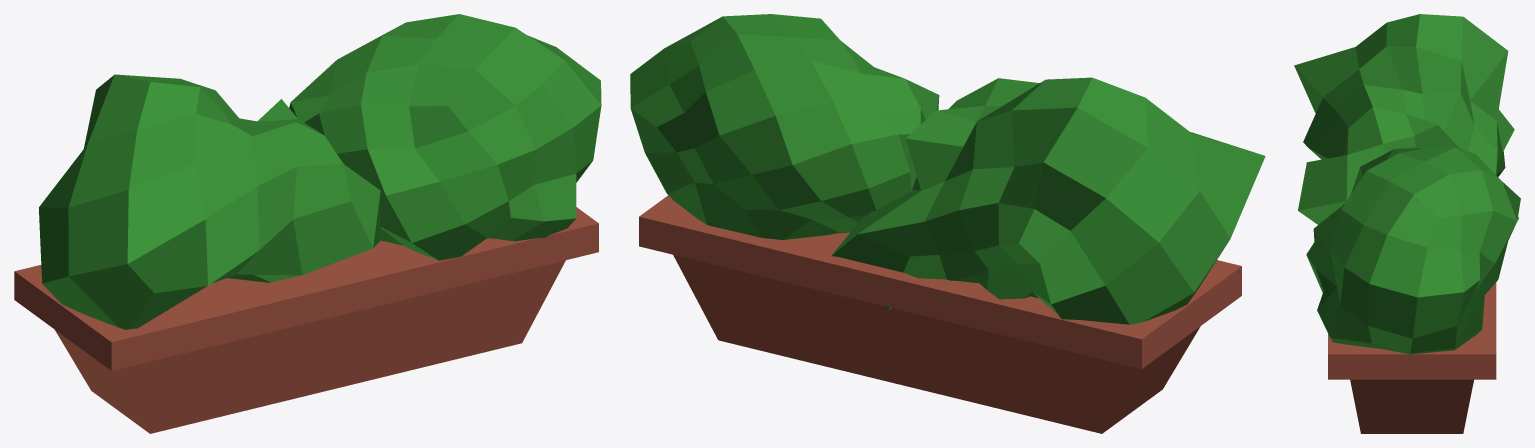
File: Planter.fbx
3 renders of one model, left to right at view 1: azimuth 30°, elevation 25°; view 2: azimuth 150°, elevation 25°; view 3: azimuth 270°, elevation 25°, orthographic. The views are drawn at different scales.
Visible parts, largest first — view 1: Planter; view 2: Planter; view 3: Planter.
Part boxes in pixels (<box>): Planter: <box>14,14,601,433</box>; Planter: <box>630,14,1265,433</box>; Planter: <box>1294,14,1520,433</box>.
Bounding box in the file's own units: 105 × 258 × 141.
